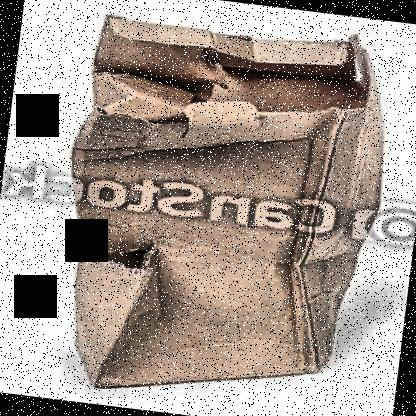defect parcel: (17, 10, 416, 416)
